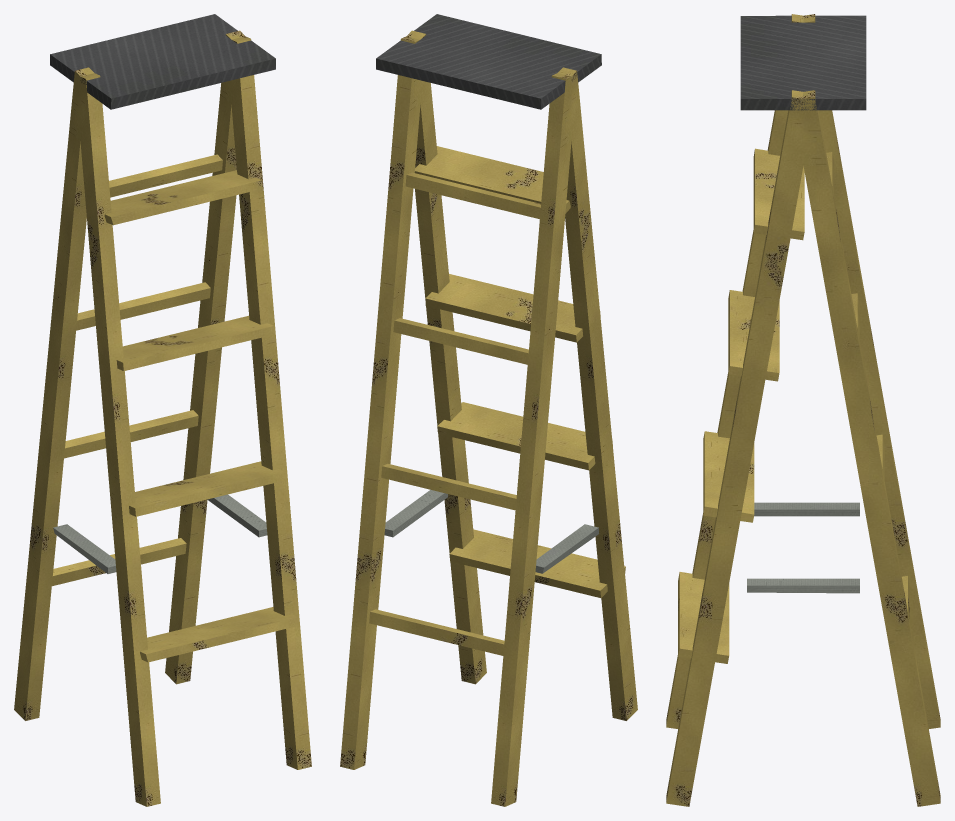
Rendered from ladder_v3.glb.
The picture shows the model from 3 angles, left to right: view 1: azimuth 30°, elevation 25°; view 2: azimuth 150°, elevation 25°; view 3: azimuth 270°, elevation 25°; orthographic projection. The views are drawn at different scales.
Visible parts, largest first — view 1: Variant_ladder_3; view 2: Variant_ladder_3; view 3: Variant_ladder_3.
Part boxes in pixels (box(x1,y1,x2,y2)): Variant_ladder_3: box(14, 14, 311, 806); Variant_ladder_3: box(340, 14, 637, 806); Variant_ladder_3: box(666, 14, 940, 806).
Size of the model in its own units: 0.4743 by 1.87 by 0.6553.
3 materials, 3 textured.
